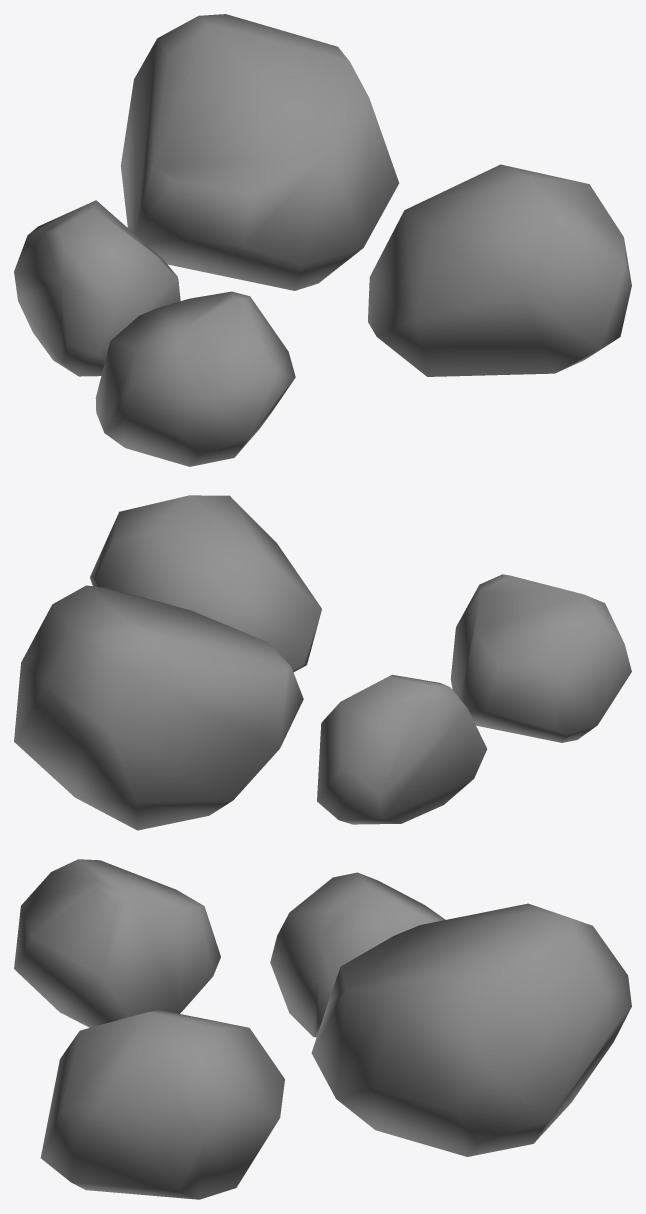
3 views of the same model, one above another, from view 1: azimuth 30°, elevation 25°; view 2: azimuth 150°, elevation 25°; view 3: azimuth 270°, elevation 25° (orthographic). The views are drawn at different scales.
Parts seen in each view (by area): view 1: submesh_0; view 2: submesh_0; view 3: submesh_0.
Boxes of the visible parts, x1,y1,x2,y2 form: submesh_0: (14, 14, 631, 466); submesh_0: (14, 495, 631, 830); submesh_0: (14, 859, 631, 1199).
Bounding box in the file's own units: 0.6819 × 0.2598 × 0.7029.
1 material, 1 textured.
